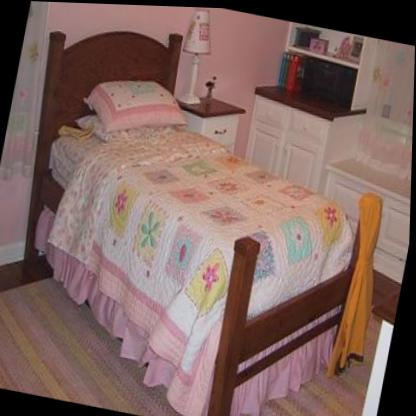Bed: (26, 32, 384, 416)
